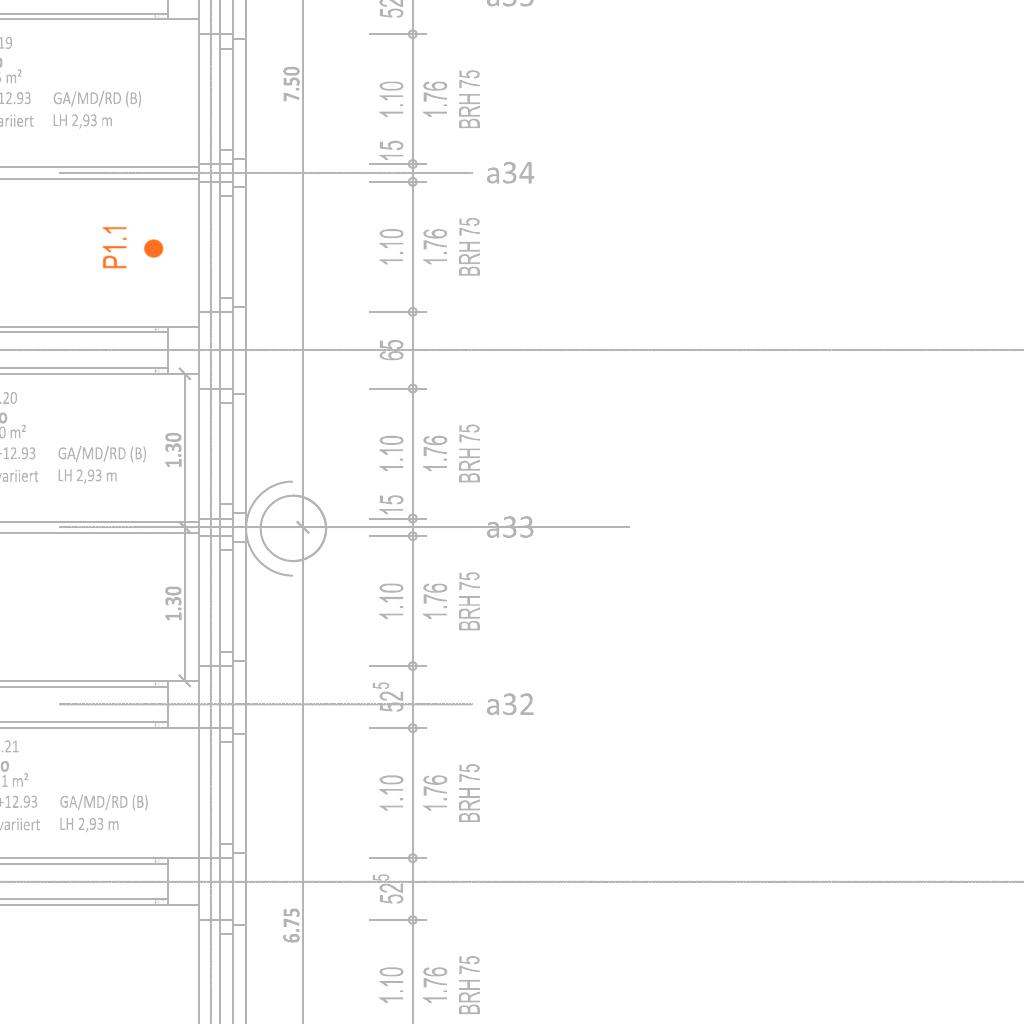Downlight_LED_Einbauleuchten_Flur_2: (101, 224, 165, 270)
